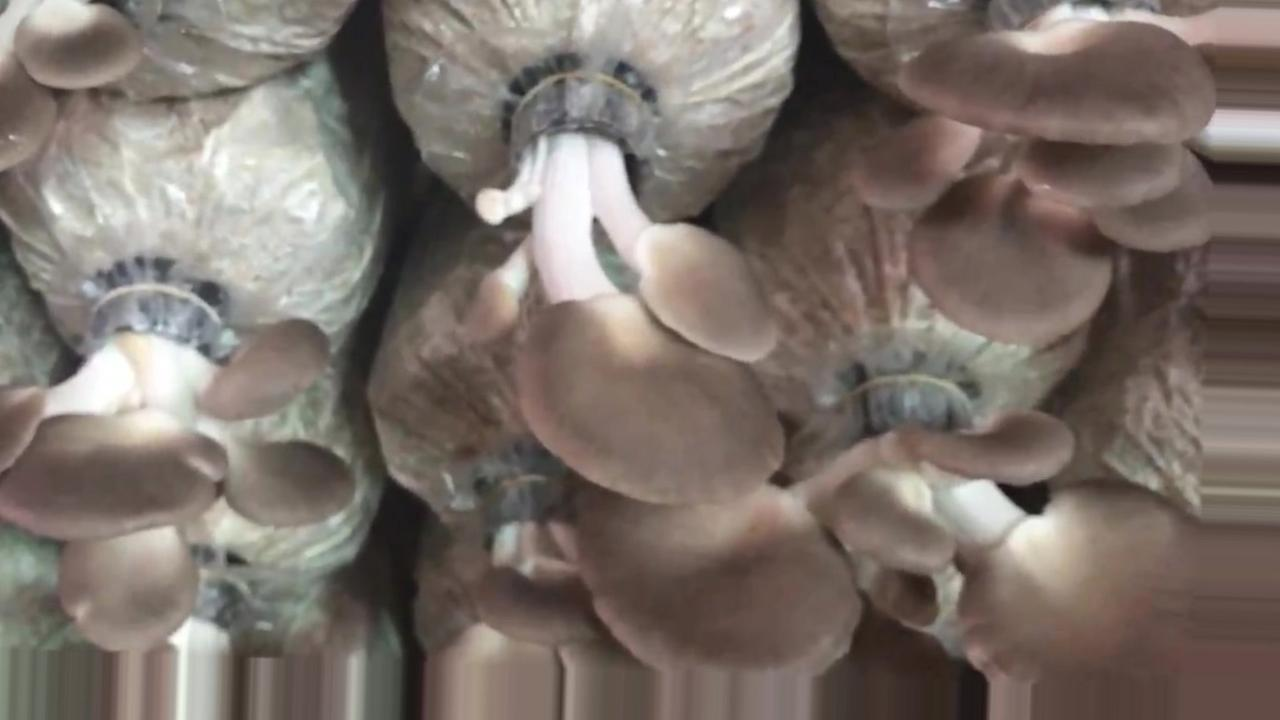nam: (581, 335, 1280, 716), (456, 63, 786, 510), (1, 259, 357, 645), (850, 1, 1222, 350), (477, 456, 614, 646), (1, 1, 139, 177)
